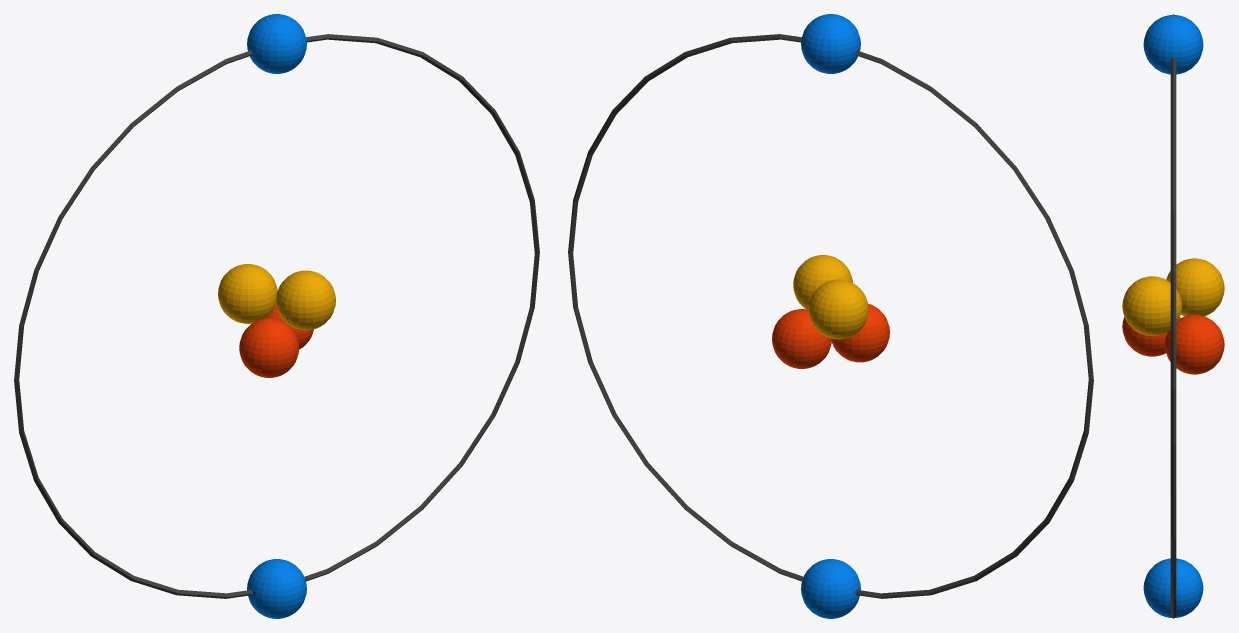
3 views of the same model, side by side, from view 1: azimuth 30°, elevation 25°; view 2: azimuth 150°, elevation 25°; view 3: azimuth 270°, elevation 25° (orthographic).
Parts seen in each view (by area): view 1: Orbit1; view 2: Orbit1; view 3: Orbit1.
Boxes of the visible parts, bbox=[...] form: Orbit1: bbox=[14, 14, 539, 618]; Orbit1: bbox=[568, 14, 1093, 618]; Orbit1: bbox=[1122, 14, 1224, 618].
Size of the model in its own units: 202 by 220 by 34.14.
